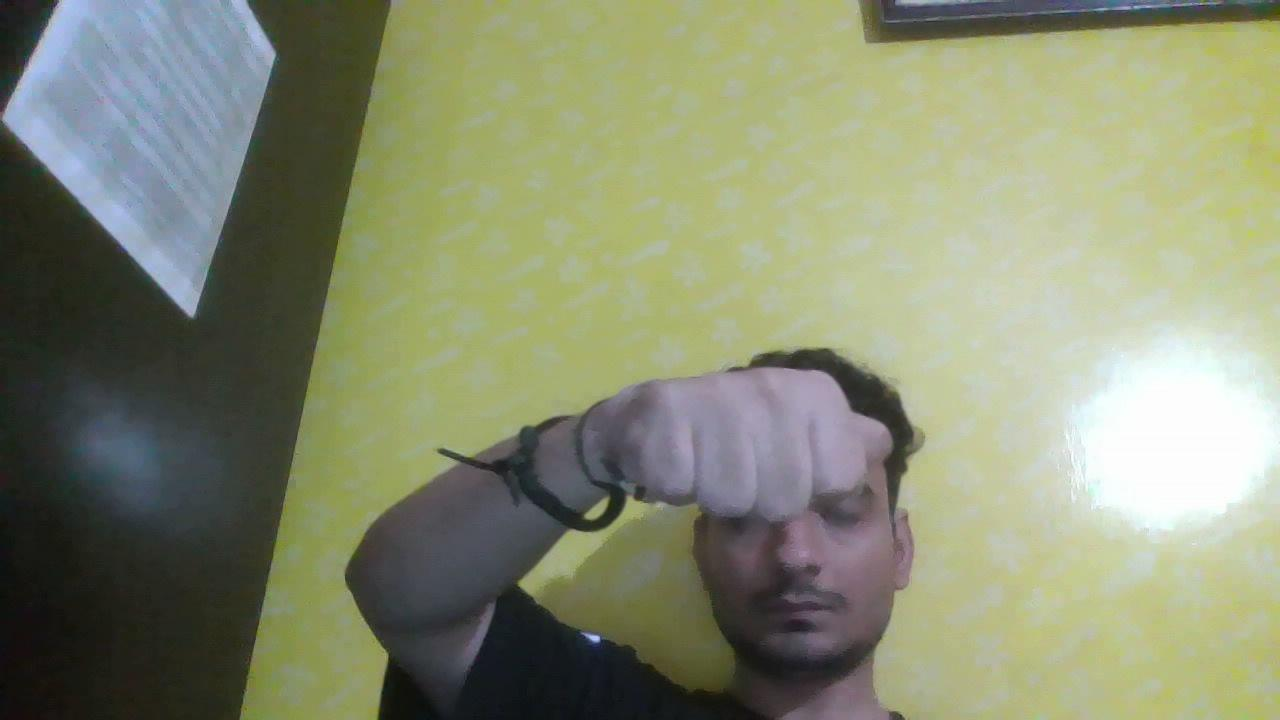Yes: (614, 305, 887, 544)
